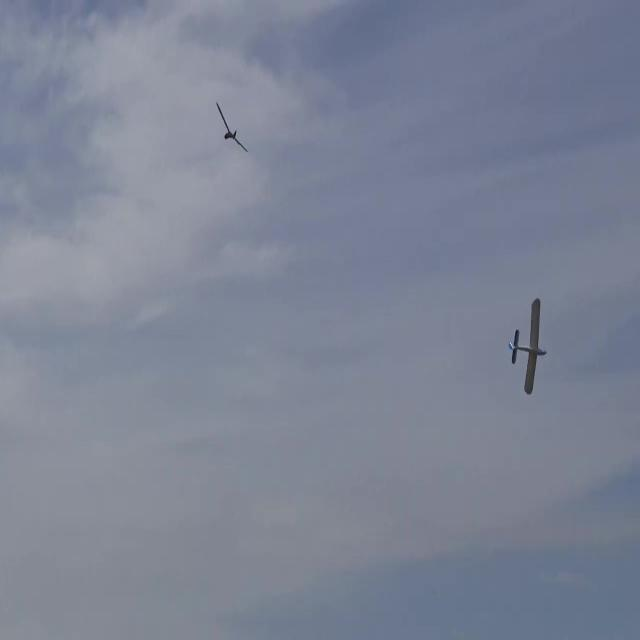iha: (216, 36, 248, 89), (508, 329, 548, 363)
